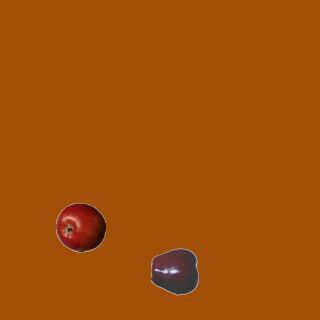Apple Braeburn: (55, 202, 105, 252)
Apple Red Delicious: (150, 246, 200, 296)
